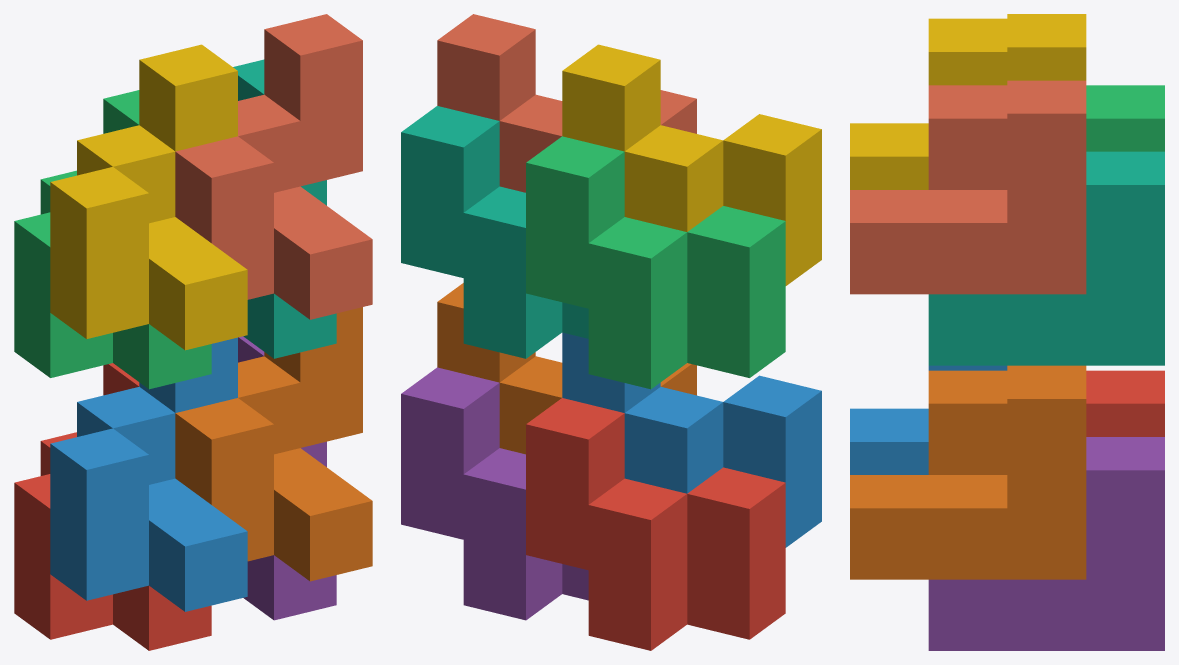
The model's file is tiling.obj.
3 views of the same model, side by side, from view 1: azimuth 30°, elevation 25°; view 2: azimuth 150°, elevation 25°; view 3: azimuth 270°, elevation 25° (orthographic). The views are drawn at different scales.
Visible parts, largest first — view 1: copy_1_domain_4, copy_1_domain_8, copy_1_domain_2, copy_1_domain_6, copy_1_domain_3, copy_1_domain_1, copy_1_domain_7, copy_1_domain_5; view 2: copy_1_domain_3, copy_1_domain_1, copy_1_domain_4, copy_1_domain_7, copy_1_domain_5, copy_1_domain_2, copy_1_domain_8, copy_1_domain_6; view 3: copy_1_domain_6, copy_1_domain_8, copy_1_domain_7, copy_1_domain_5, copy_1_domain_4, copy_1_domain_2, copy_1_domain_1, copy_1_domain_3.
Part boxes in pixels (left/top/right/bottom): copy_1_domain_4: left=50, top=44, right=247, bottom=350; copy_1_domain_8: left=175, top=14, right=372, bottom=319; copy_1_domain_2: left=50, top=337, right=247, bottom=611; copy_1_domain_6: left=175, top=307, right=372, bottom=581; copy_1_domain_3: left=14, top=90, right=211, bottom=389; copy_1_domain_1: left=14, top=363, right=211, bottom=650; copy_1_domain_7: left=233, top=59, right=336, bottom=358; copy_1_domain_5: left=238, top=336, right=336, bottom=620; copy_1_domain_3: left=526, top=136, right=785, bottom=389; copy_1_domain_1: left=526, top=398, right=785, bottom=650; copy_1_domain_4: left=562, top=44, right=821, bottom=285; copy_1_domain_7: left=401, top=106, right=588, bottom=358; copy_1_domain_5: left=401, top=367, right=588, bottom=620; copy_1_domain_2: left=562, top=332, right=821, bottom=547; copy_1_domain_8: left=437, top=14, right=696, bottom=192; copy_1_domain_6: left=437, top=283, right=696, bottom=454; copy_1_domain_6: left=850, top=365, right=1086, bottom=579; copy_1_domain_8: left=850, top=80, right=1086, bottom=294; copy_1_domain_7: left=928, top=151, right=1164, bottom=365; copy_1_domain_5: left=928, top=437, right=1164, bottom=650; copy_1_domain_4: left=850, top=14, right=1086, bottom=189; copy_1_domain_2: left=850, top=365, right=1007, bottom=474; copy_1_domain_1: left=1086, top=370, right=1164, bottom=436; copy_1_domain_3: left=1086, top=85, right=1164, bottom=151.
Bounding box in the file's own units: 5 × 8 × 4.
